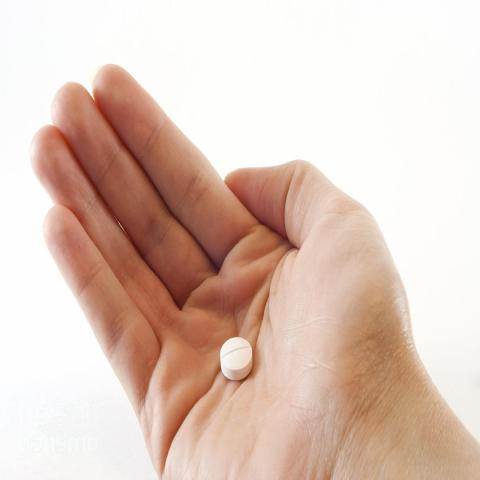Pill: (212, 324, 258, 388)
